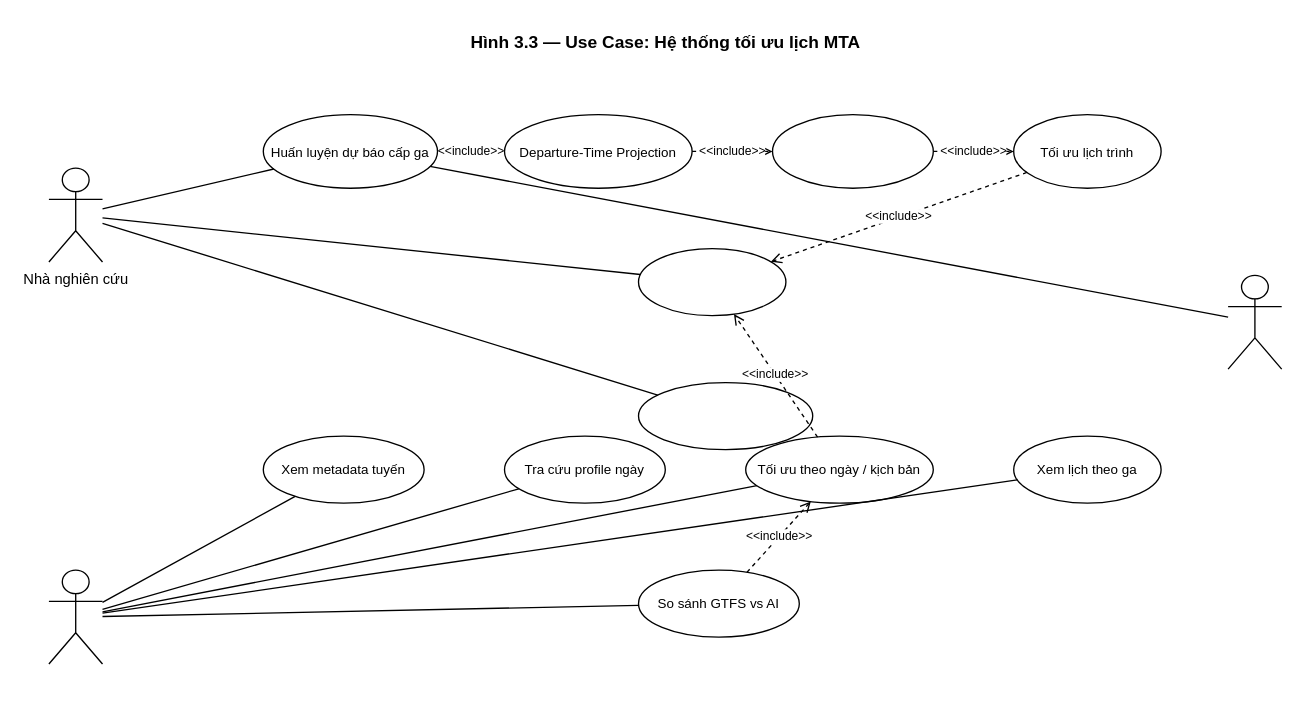
This 1315x713 diagram has some shape labels left out. Here are the shapes that lost their labels. From the top down, the centre of each, then its label:
At point 852,150: "Quét Pareto chọn λ".
At point 711,281: "Xuất artifacts".
At point 1254,321: "Dữ liệu MTA".
At point 725,415: "Mô phỏng lan truyền trễ".
At point 75,616: "Điều độ viên".
